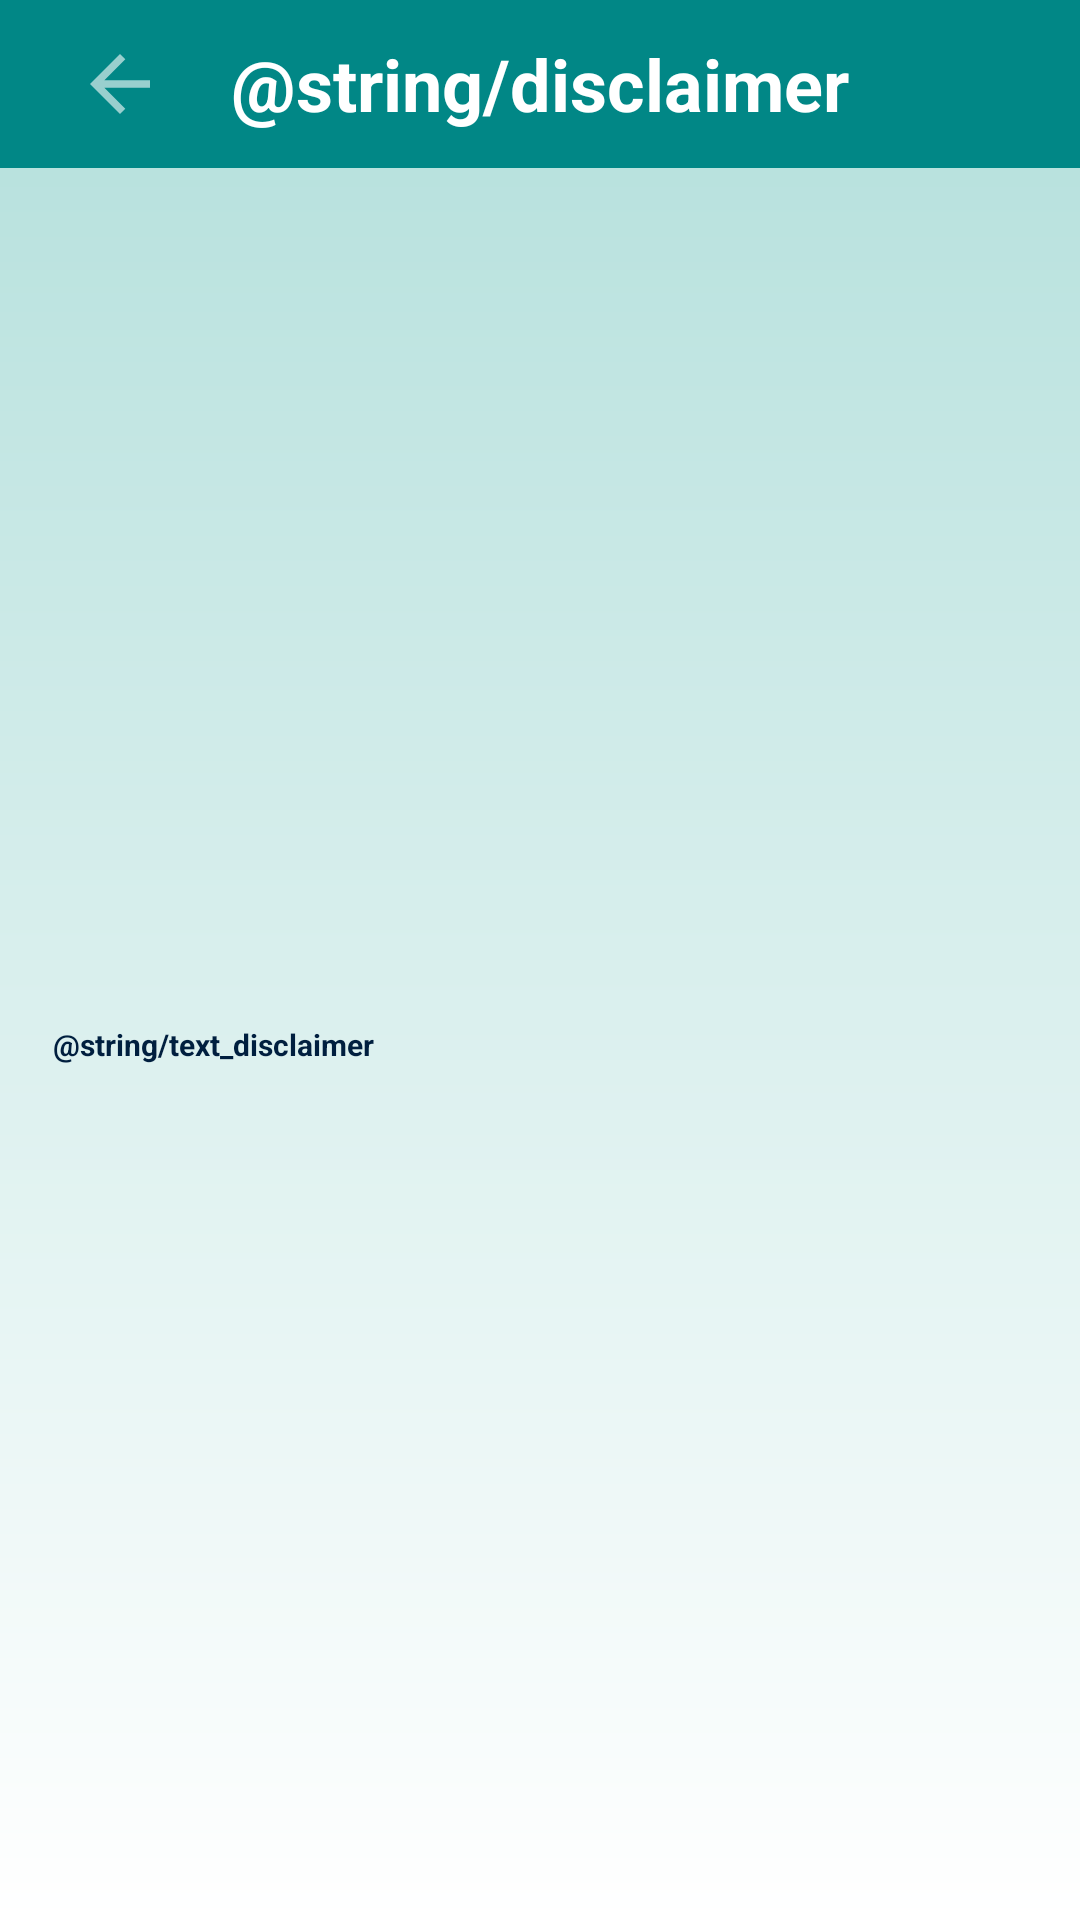

Point at icon controls on the screen. Image size 1080*1920, points as (x=x, y=y).
Back Button: (x=120, y=84)
